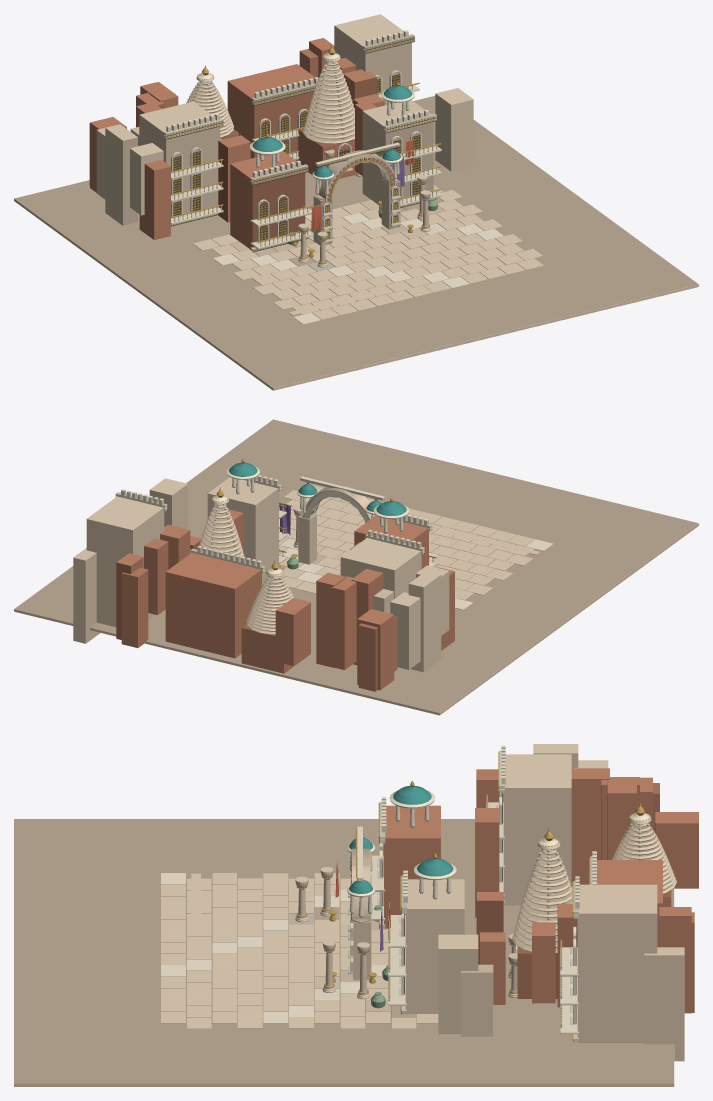
The model's file is kashi-courtyard.glb.
3 renders of one model, top to bottom at view 1: azimuth 30°, elevation 25°; view 2: azimuth 150°, elevation 25°; view 3: azimuth 270°, elevation 25°, orthographic. The views are drawn at different scales.
Parts seen in each view (by area): view 1: Kashi_Torana_Ghat_Courtyard; view 2: Kashi_Torana_Ghat_Courtyard; view 3: Kashi_Torana_Ghat_Courtyard.
Boxes of the visible parts, left/top/right/bottom form: Kashi_Torana_Ghat_Courtyard: left=14, top=14, right=698, bottom=390; Kashi_Torana_Ghat_Courtyard: left=14, top=419, right=698, bottom=715; Kashi_Torana_Ghat_Courtyard: left=14, top=744, right=698, bottom=1086.
Bounding box in the file's own units: 55 × 17.17 × 60.17.
